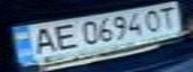0: (78, 18, 100, 46)
4: (124, 11, 148, 37)
6: (96, 16, 115, 44)
9: (109, 12, 130, 41)
A: (24, 25, 60, 55)
E: (48, 21, 81, 52)
O: (139, 7, 166, 33)
T: (154, 3, 184, 29)
